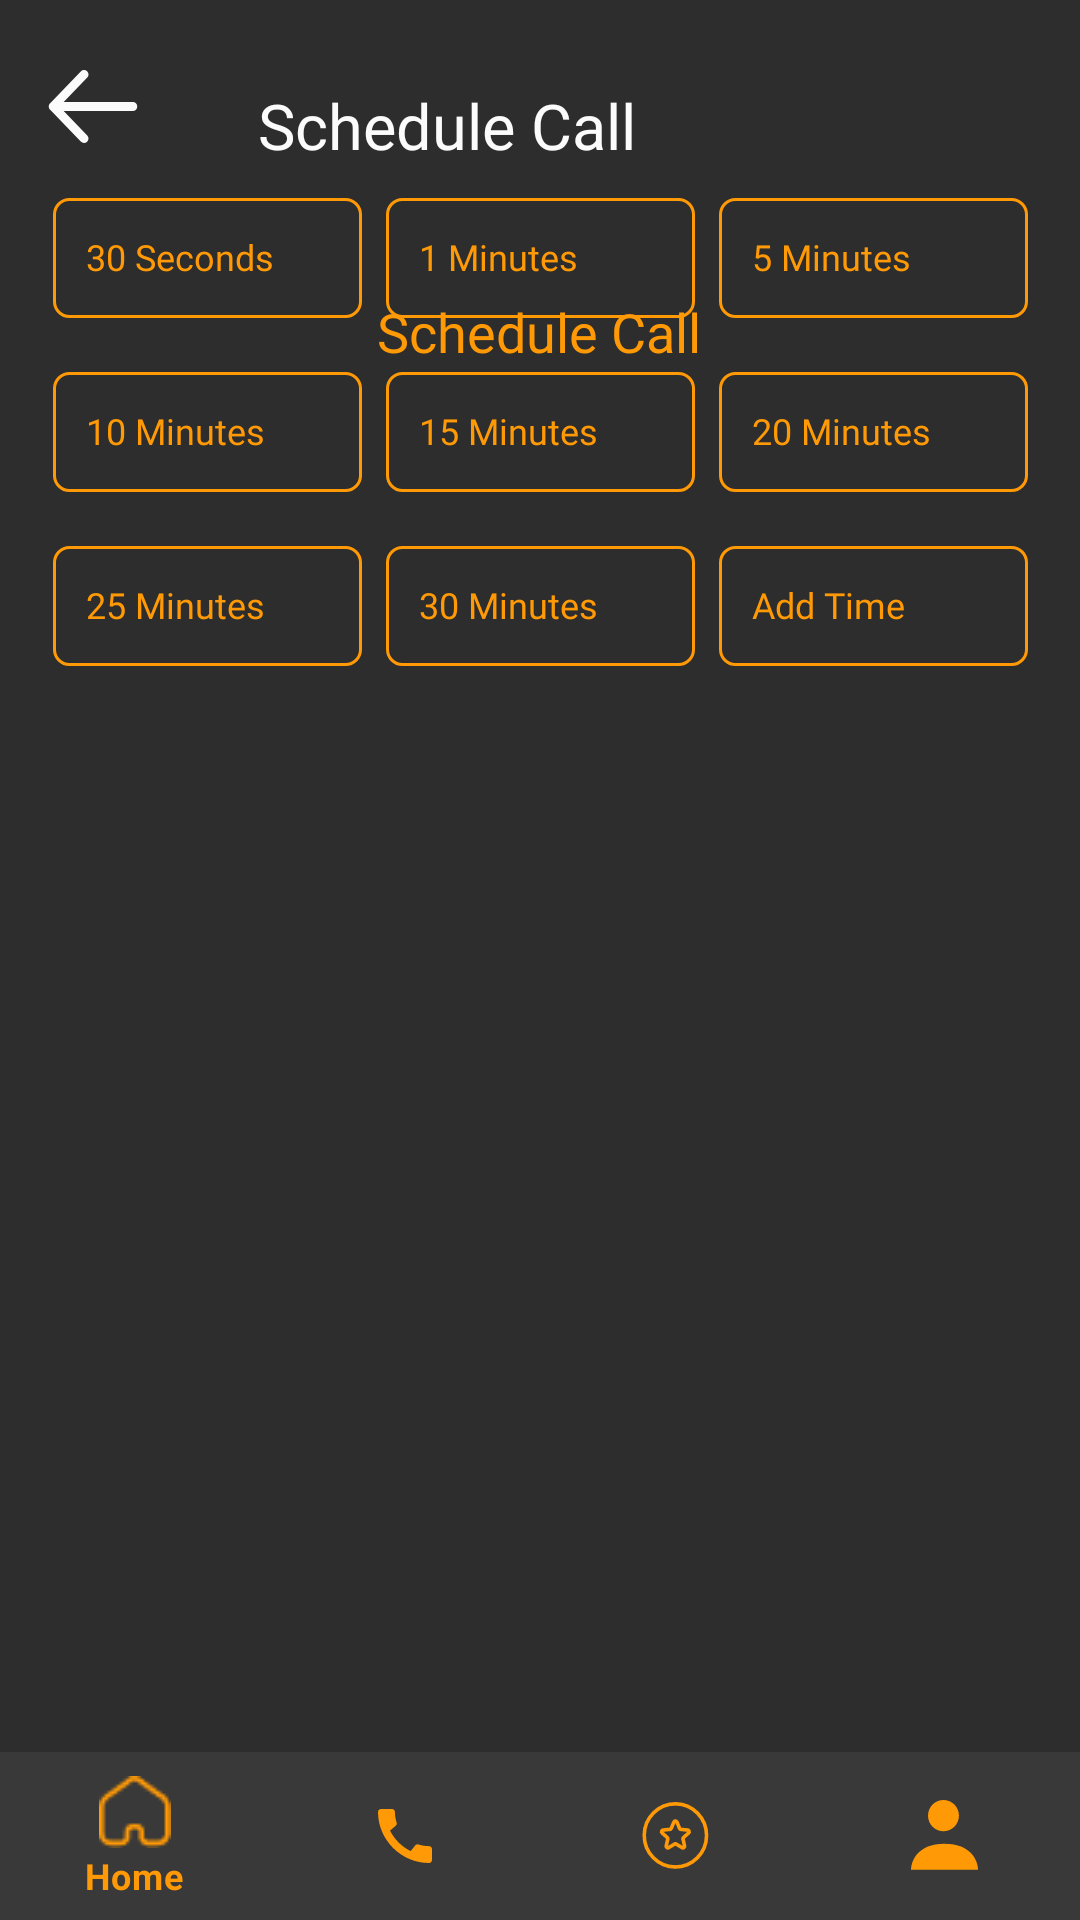

Icon bounding boxes for this 1080w x 1920h phone screenshot, format (x1, y1, x2, y2):
back: (48, 70, 138, 143)
